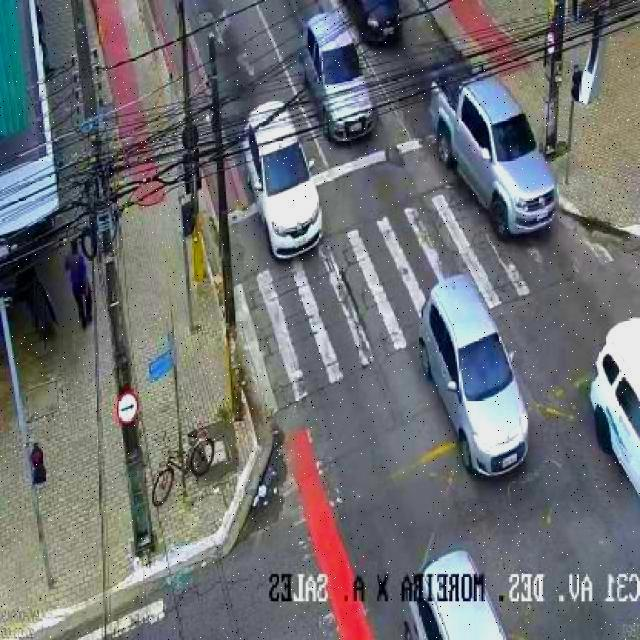Car: (414, 276, 530, 477), (243, 100, 325, 260), (298, 10, 377, 143), (401, 548, 510, 640), (590, 317, 640, 502), (343, 1, 403, 47)
Cycle: (149, 429, 217, 508)
Truck: (429, 67, 562, 242)
